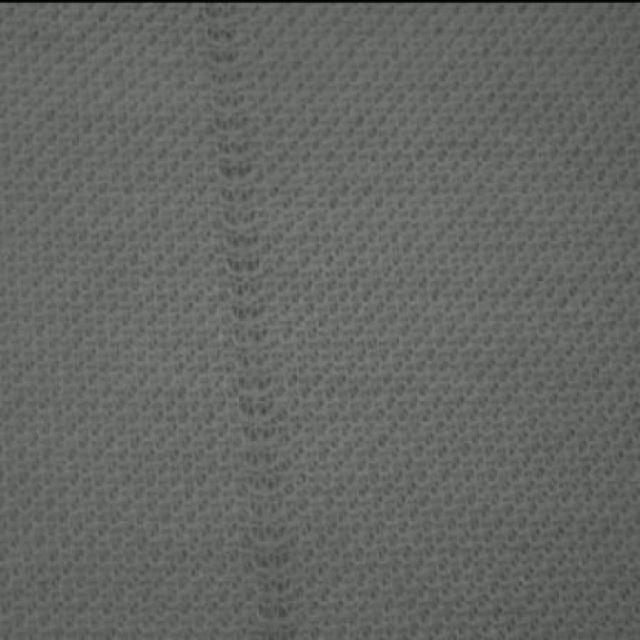Line: (196, 5, 303, 640)
